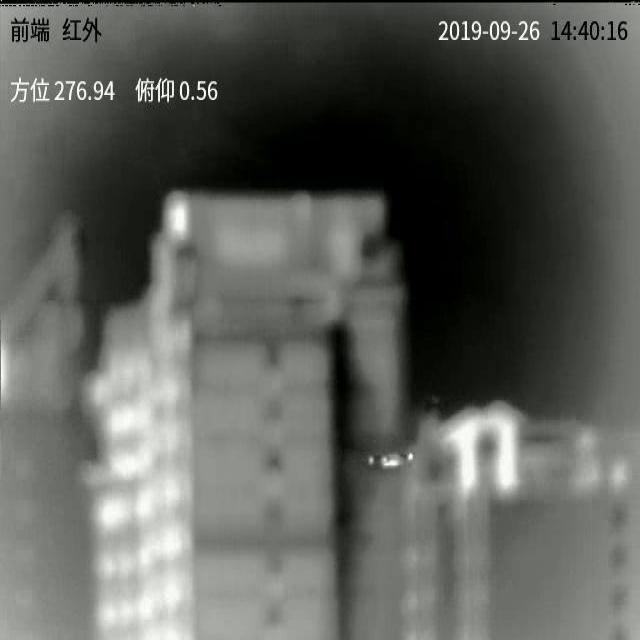drone: (366, 452, 414, 469)
